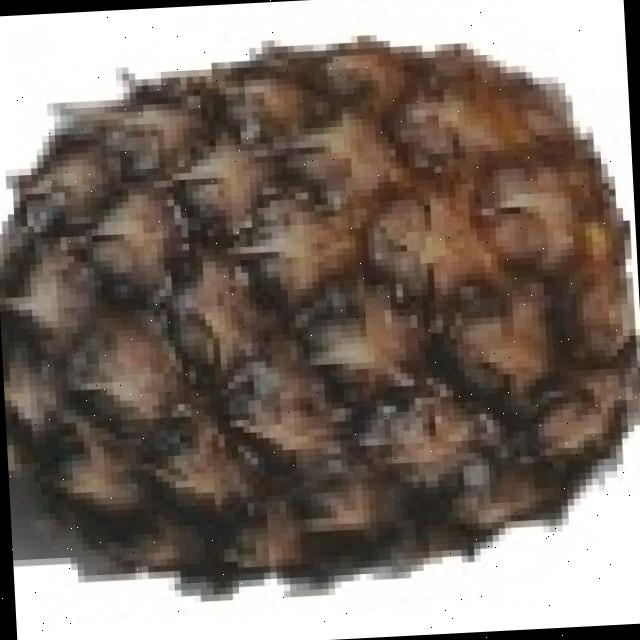pineapple: (0, 42, 640, 589)
